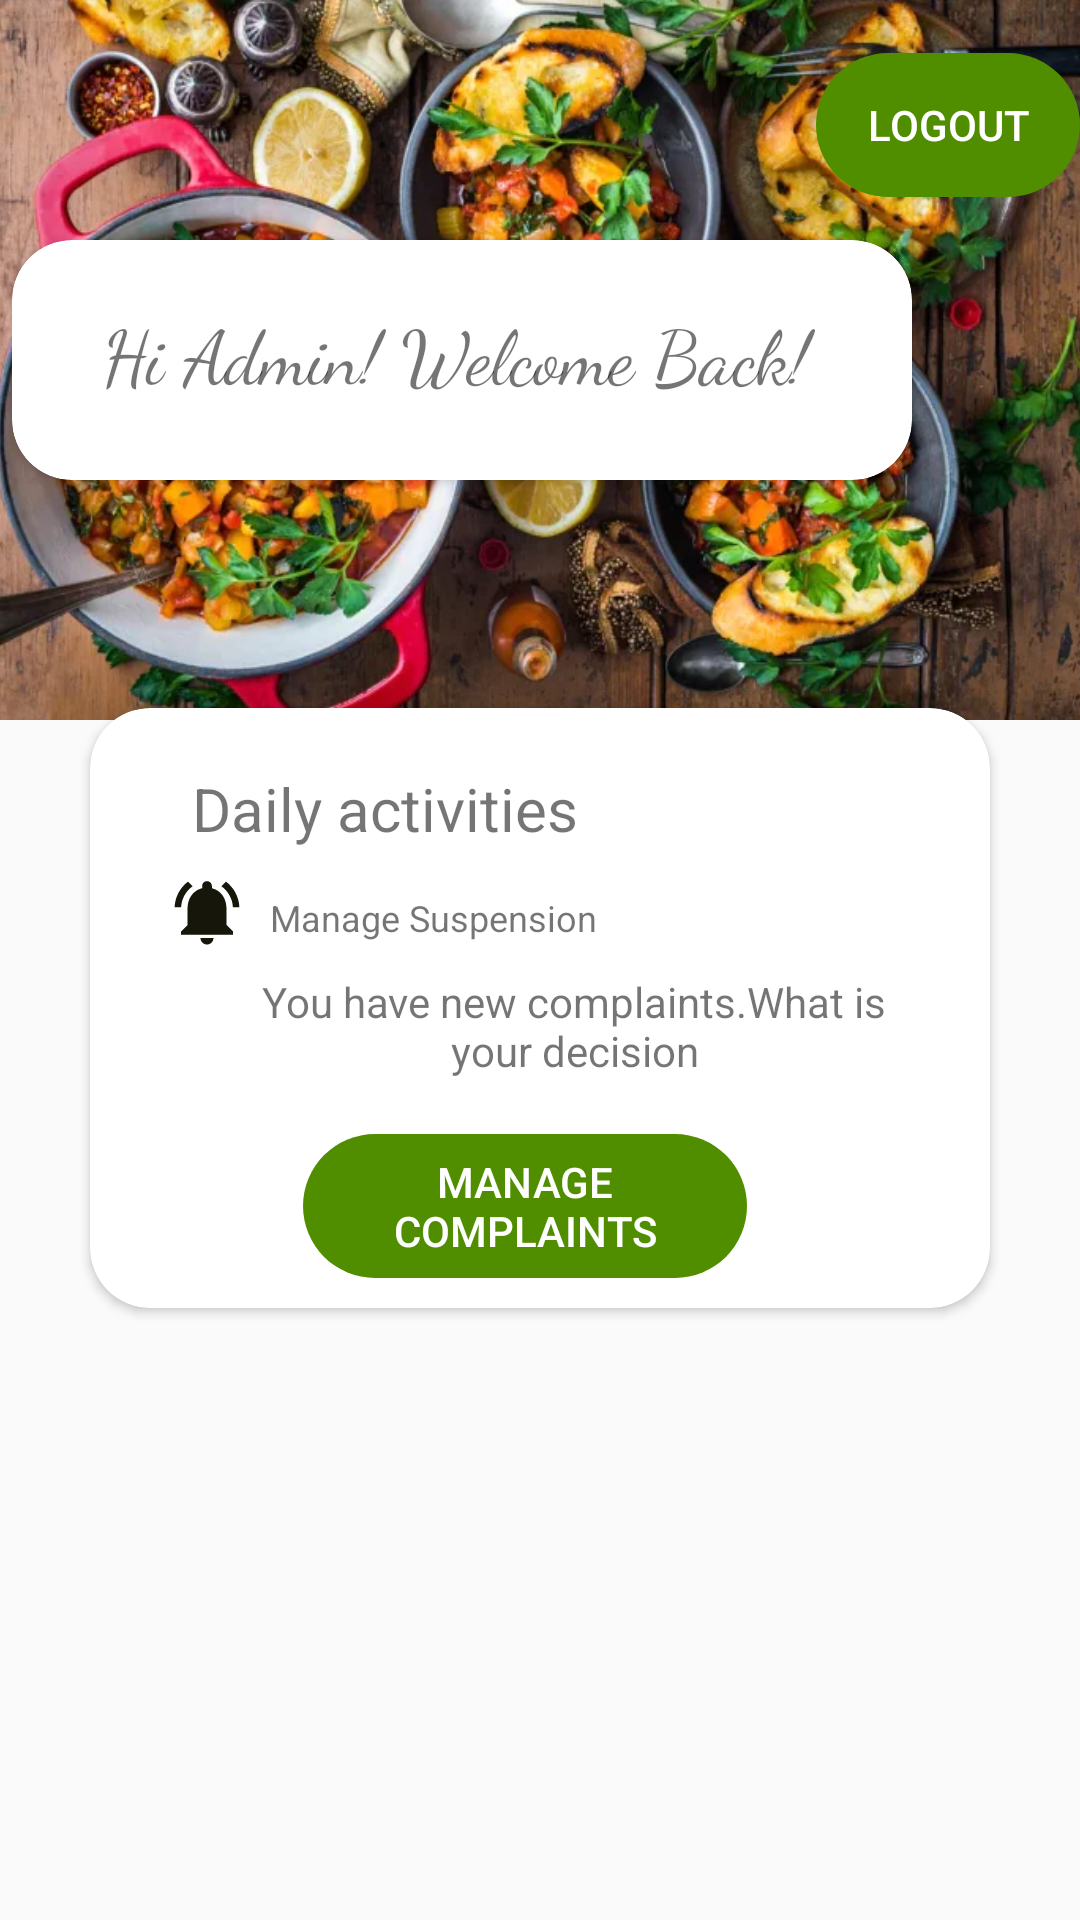

Locate icon controls on the screen. Image size 1080*1920, boxes as detection(x1, y1, x2, y2).
notifications: detection(174, 881, 240, 945)
